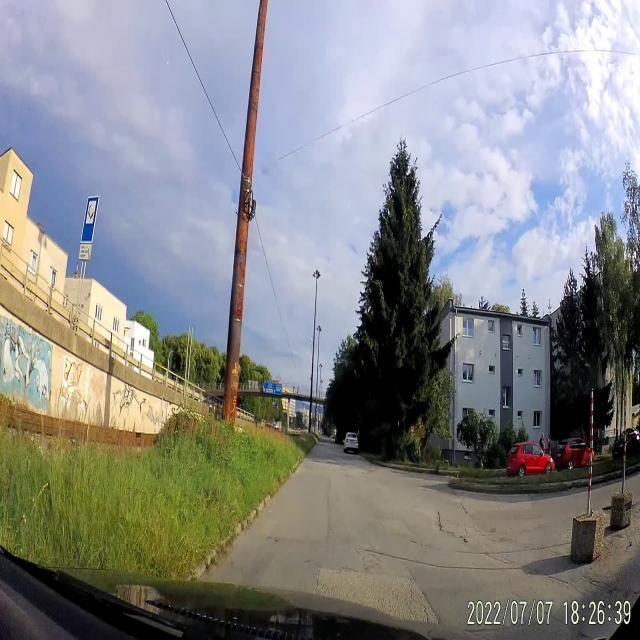Pothole: (458, 532, 468, 544), (437, 520, 444, 533), (410, 538, 418, 546), (302, 558, 311, 565), (273, 538, 280, 544), (330, 527, 334, 533)
